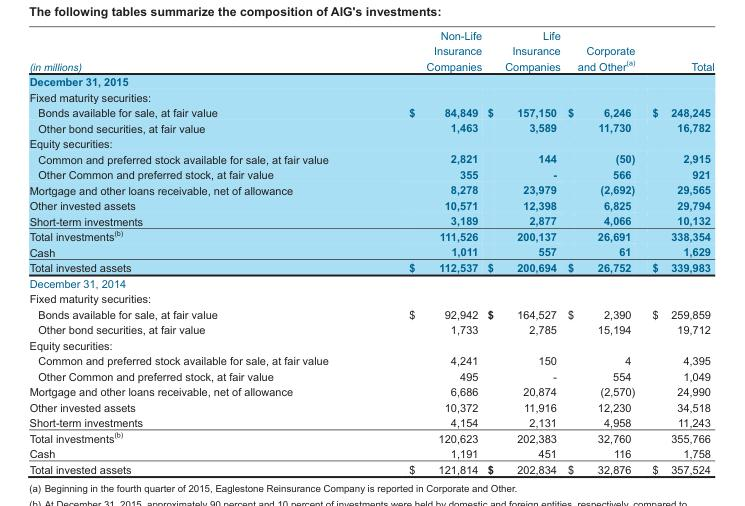table: (28, 28, 713, 474)
table column: (28, 28, 368, 474), (368, 28, 483, 474), (483, 28, 563, 474), (563, 28, 642, 474), (642, 28, 713, 474)
table column header: (28, 28, 713, 73)
table projected row header: (28, 88, 713, 104), (28, 73, 713, 88), (28, 135, 713, 150), (28, 275, 713, 290), (28, 290, 713, 305), (28, 337, 713, 352)
table row: (28, 28, 713, 73), (28, 88, 713, 104), (28, 119, 713, 135), (28, 150, 713, 166), (28, 181, 713, 197), (28, 227, 713, 243), (28, 243, 713, 259), (28, 259, 713, 275), (28, 305, 713, 321), (28, 321, 713, 337), (28, 352, 713, 368), (28, 383, 713, 399), (28, 429, 713, 445), (28, 445, 713, 461), (28, 73, 713, 88), (28, 104, 713, 119), (28, 135, 713, 150), (28, 166, 713, 181), (28, 197, 713, 212), (28, 212, 713, 227), (28, 275, 713, 290), (28, 290, 713, 305), (28, 337, 713, 352), (28, 368, 713, 383), (28, 399, 713, 414), (28, 414, 713, 429), (28, 461, 713, 474)
